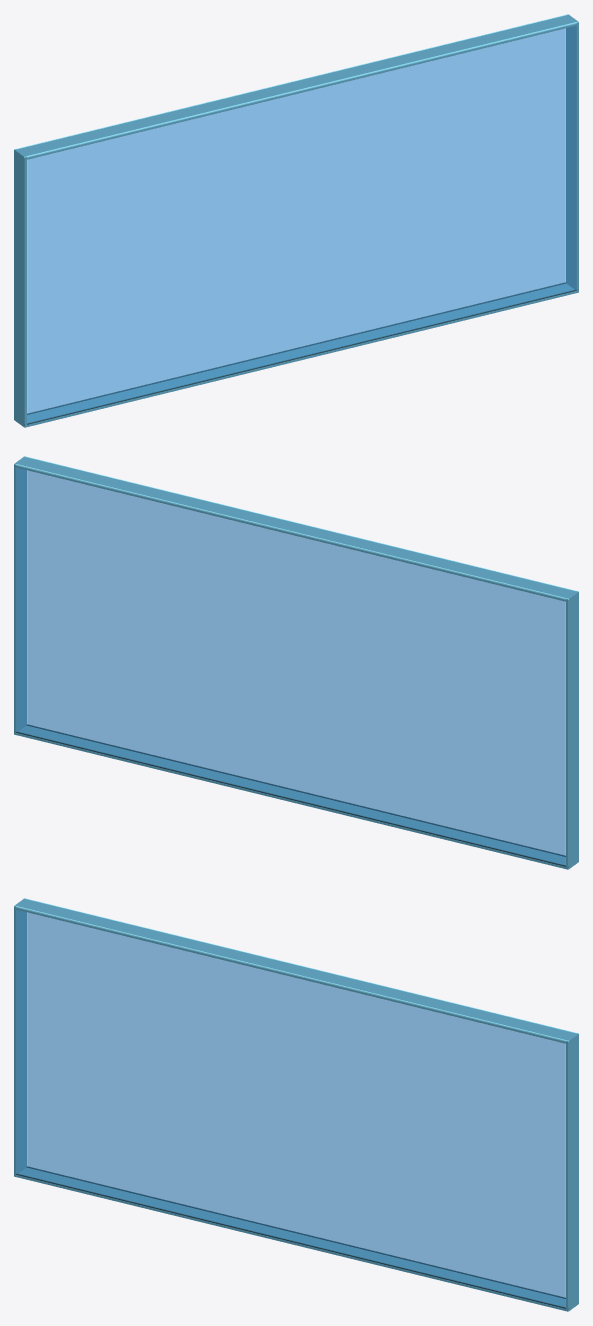
The model's file is SM_VR_Wall_TransferEast.fbx.
The picture shows the model from 3 angles, top to bottom: view 1: azimuth 30°, elevation 25°; view 2: azimuth 150°, elevation 25°; view 3: azimuth 330°, elevation 25°; orthographic projection.
Parts seen in each view (by area): view 1: SM_VR_Wall_TransferEast; view 2: SM_VR_Wall_TransferEast; view 3: SM_VR_Wall_TransferEast.
Part boxes in pixels (x1,y1,x2,y2): SM_VR_Wall_TransferEast: (14,14,578,427); SM_VR_Wall_TransferEast: (14,456,578,869); SM_VR_Wall_TransferEast: (14,898,578,1311).
Size of the model in its own units: 600 by 20 by 280.
